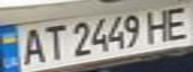2: (69, 17, 93, 57)
4: (90, 14, 112, 54), (106, 11, 127, 52)
9: (121, 10, 145, 48)
A: (15, 25, 48, 65)
E: (157, 2, 193, 42)
H: (142, 5, 175, 44)
T: (36, 21, 69, 62)
